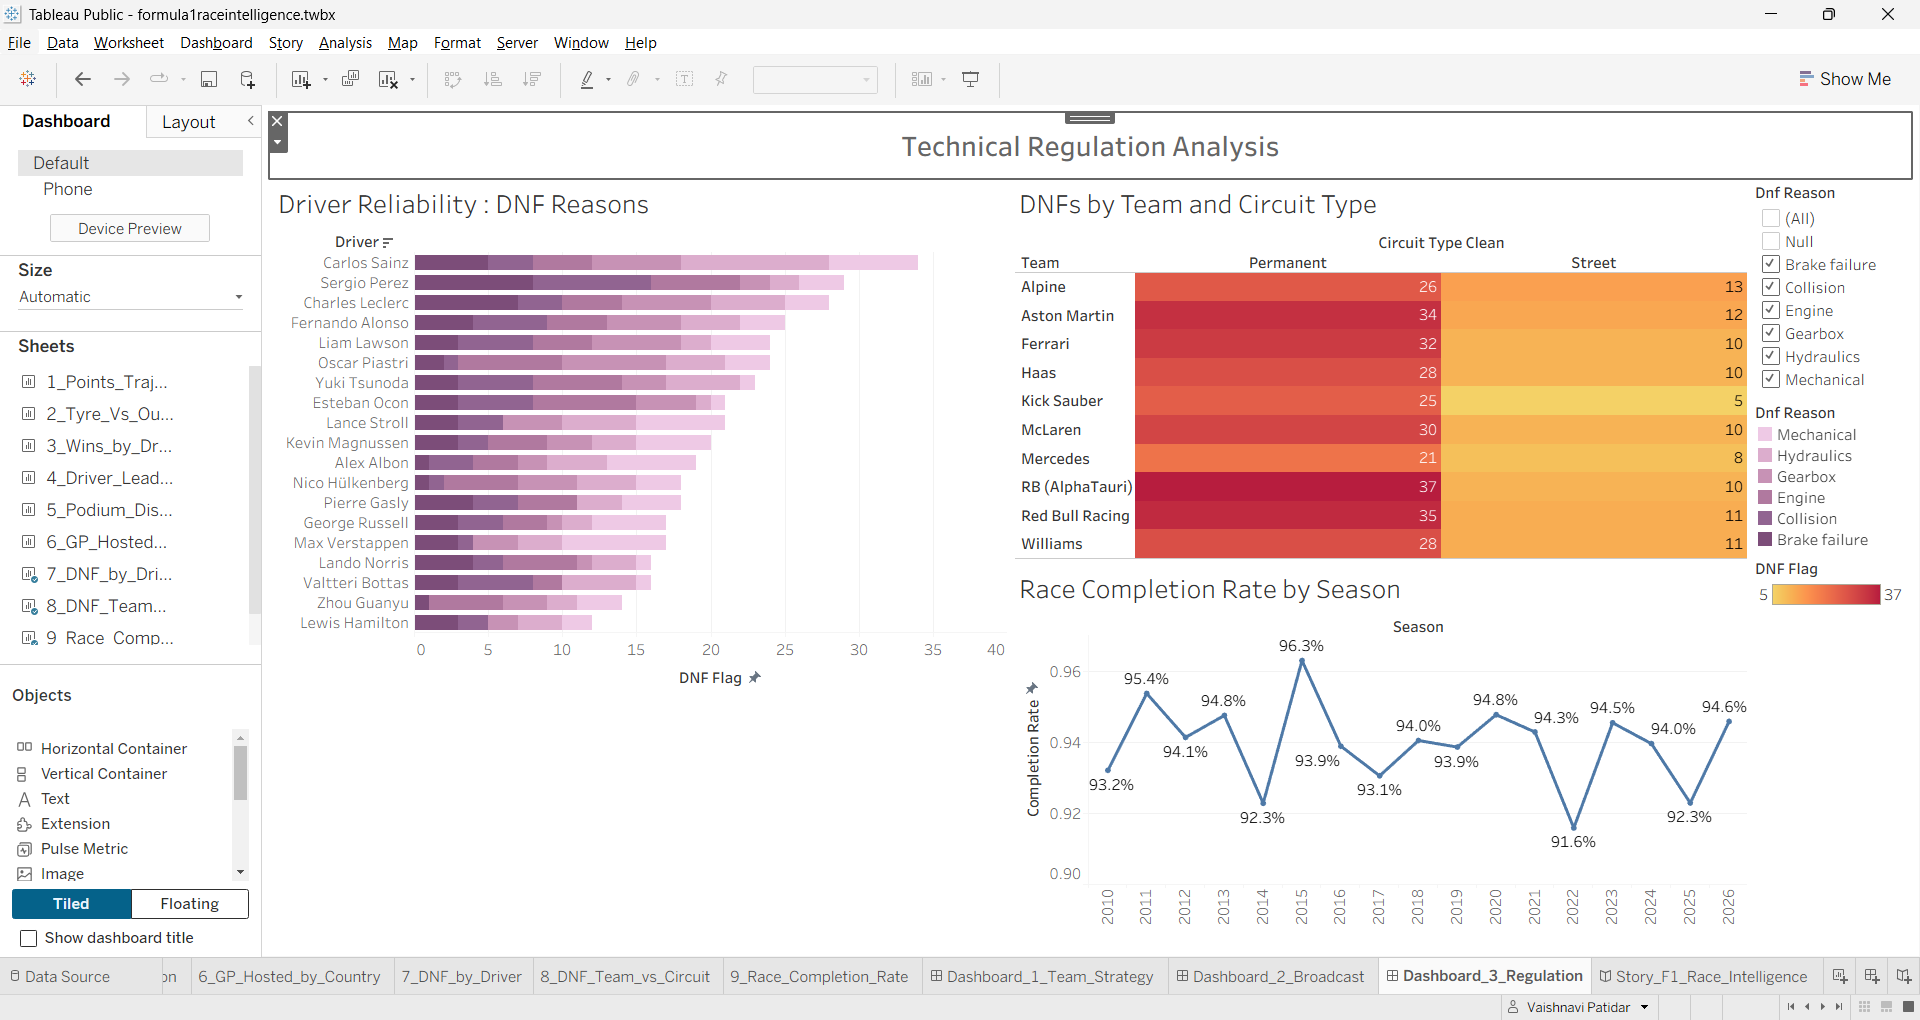

The dashboard page shown, as its layout file describes it:
{"tool":"tableau","page":{"name":"Dashboard_3_Regulation","canvas":[1000,1000],"units":"permille","ordinal":2},"visuals":[{"type":"text","box":[4.8,9.4,990.3,76.4]},{"type":"worksheet","title":"7_DNF_by_Driver","mark":"Automatic","rows":["driver"],"cols":["Calculation_1331020822016001"],"box":[4.8,85.8,446.9,904.8]},{"type":"worksheet","title":"8_DNF_Team_vs_Circuit","mark":"Square","rows":["team"],"cols":["Calculation_1331020857790468"],"box":[451.7,85.8,446.9,452.4]},{"type":"filter","title":"7_DNF_by_Driver","param":"[federated.16xycoi09t615k0zn9l631br8ulf].[none:dnf_reason:nk]","box":[898.6,85.8,96.6,258.5]},{"type":"legend","title":"7_DNF_by_Driver","param":"[federated.16xycoi09t615k0zn9l631br8ulf].[none:dnf_reason:nk]","box":[898.6,344.3,96.6,183.3]},{"type":"legend","title":"8_DNF_Team_vs_Circuit","param":"[federated.16xycoi09t615k0zn9l631br8ulf].[sum:Calculation_1331020822016001:qk]","box":[898.6,527.6,96.6,85.8]},{"type":"worksheet","title":"9_Race_Completion_Rate","mark":"Line","rows":["Calculation_1331020859928581"],"cols":["season"],"box":[451.7,538.2,446.9,452.4]}]}

Visuals, with their boxes on the dashboard's canvas, which has no fixed pixel size, in thousandths of its width and height (x1, y1, x2, y2). These are canvas units, not pixel positions in the 1920x1020 screenshot, which may show the page scaled, cropped or inside an application window:
text: 5:9:995:86
"7_DNF_by_Driver" worksheet: 5:86:452:991
"8_DNF_Team_vs_Circuit" worksheet (Square marks): 452:86:899:538
"7_DNF_by_Driver" filter: 899:86:995:344
"7_DNF_by_Driver" legend: 899:344:995:528
"8_DNF_Team_vs_Circuit" legend: 899:528:995:613
"9_Race_Completion_Rate" worksheet (Line marks): 452:538:899:991
